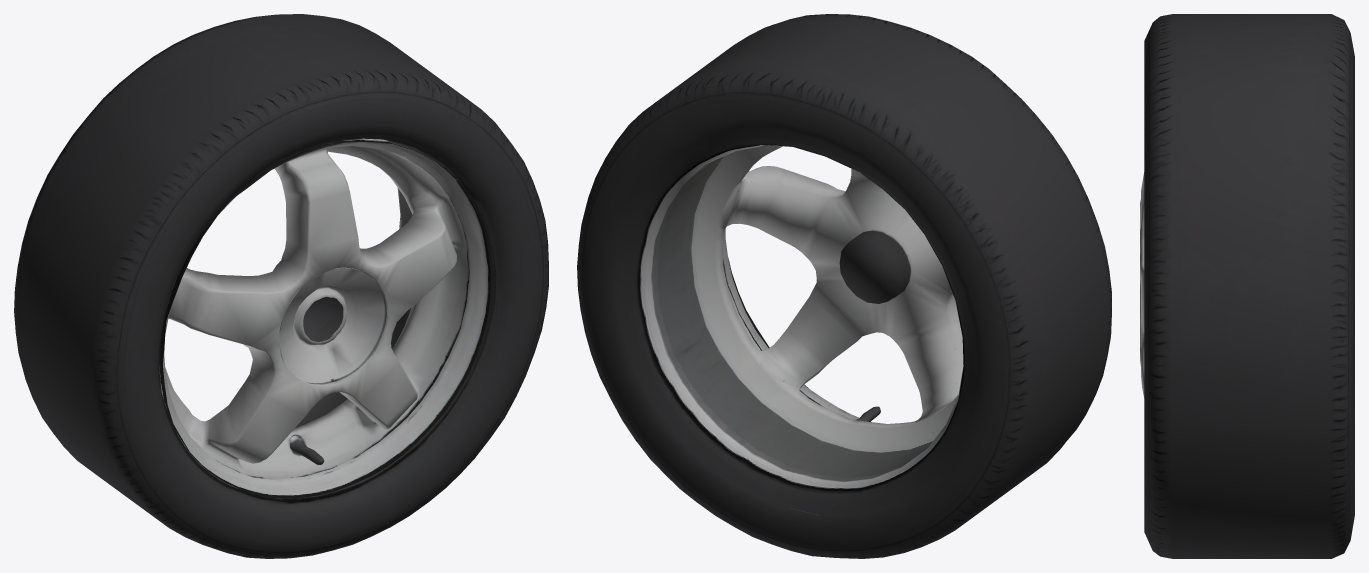
The model's file is original_glb.glb.
The picture shows the model from 3 angles, left to right: view 1: azimuth 30°, elevation 25°; view 2: azimuth 150°, elevation 25°; view 3: azimuth 270°, elevation 25°; orthographic projection. The views are drawn at different scales.
Parts seen in each view (by area): view 1: wheel; view 2: wheel; view 3: wheel.
Part boxes in pixels (box(x1,y1,x2,y2)): wheel: box(14, 14, 548, 558); wheel: box(577, 14, 1111, 558); wheel: box(1140, 14, 1354, 558).
Bounding box in the file's own units: 0.998 × 0.998 × 0.3965.
Materials: 1 (1 with a texture image).
